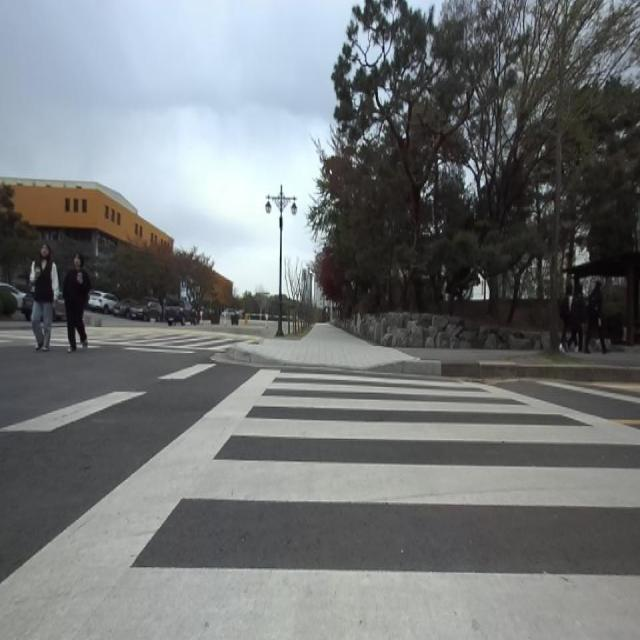sidewalk: (228, 323, 422, 370), (400, 346, 640, 368)
